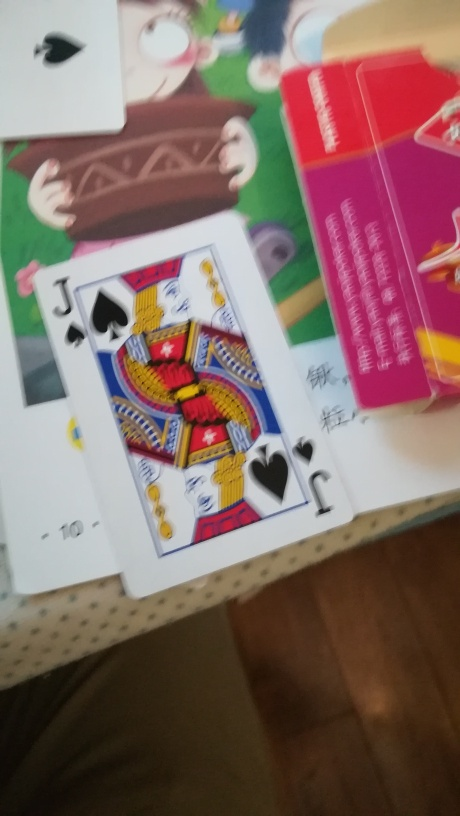ht j: (29, 204, 362, 602)
